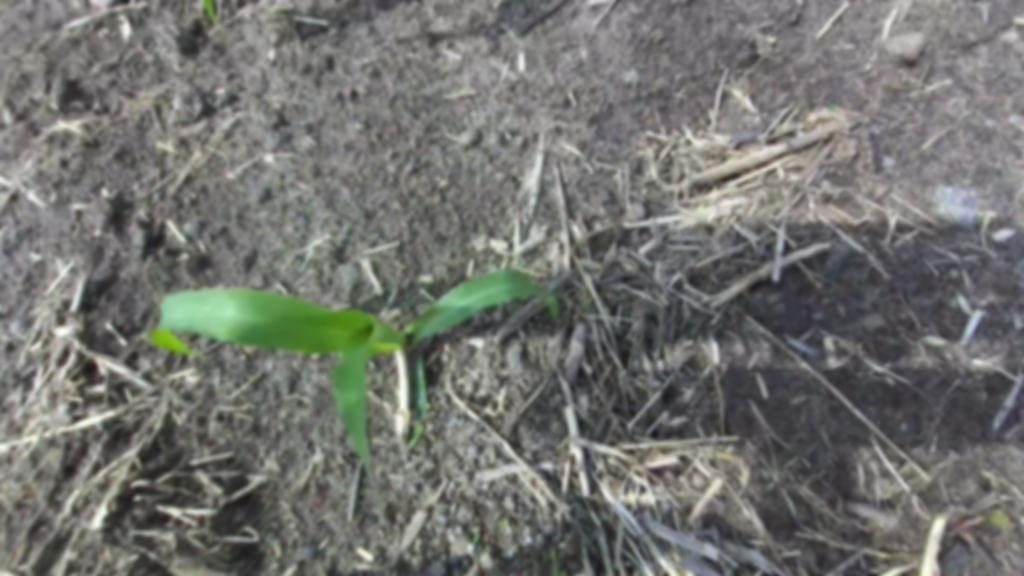BroWeed: (973, 501, 1019, 534), (953, 288, 975, 318), (387, 305, 404, 322), (417, 272, 438, 284), (579, 295, 594, 310), (309, 349, 323, 363), (496, 517, 507, 530), (471, 532, 481, 545), (623, 560, 632, 567), (503, 517, 510, 526)
Maize: (149, 269, 561, 484)
